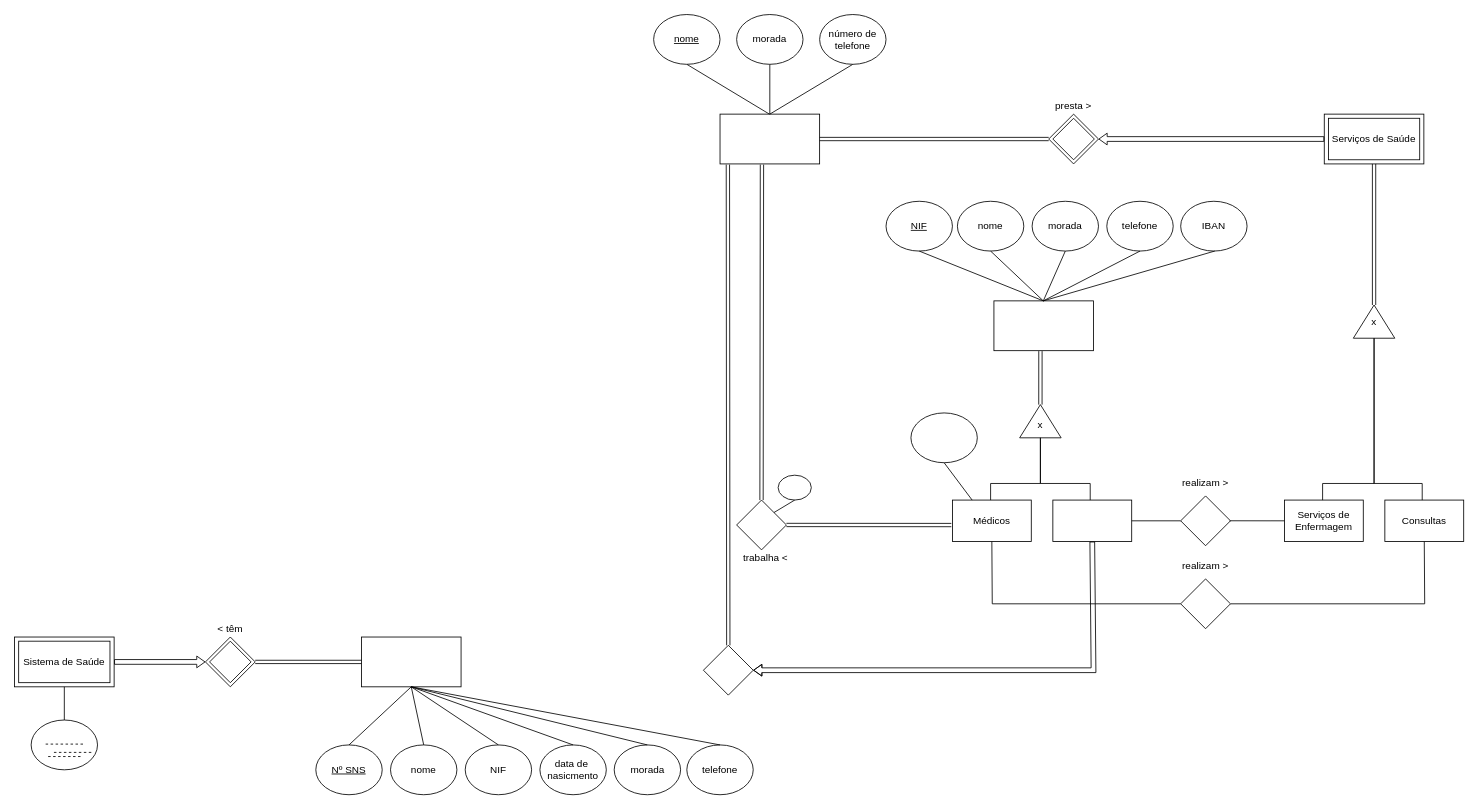
The diagram is 1478 pixels wide and 809 high, and some of its shapes have lost their labels. The centre of each missing label's shape, as x and y in pixels:
"Clinica" goes at point (769, 138).
"Dia" goes at point (794, 487).
"Enfermeiros" goes at point (1092, 520).
"Especialidade" goes at point (943, 437).
"nome do sistema" goes at point (64, 744).
"Pacientes" goes at point (411, 661).
"Profissionais de Saúde" goes at point (1043, 325).
